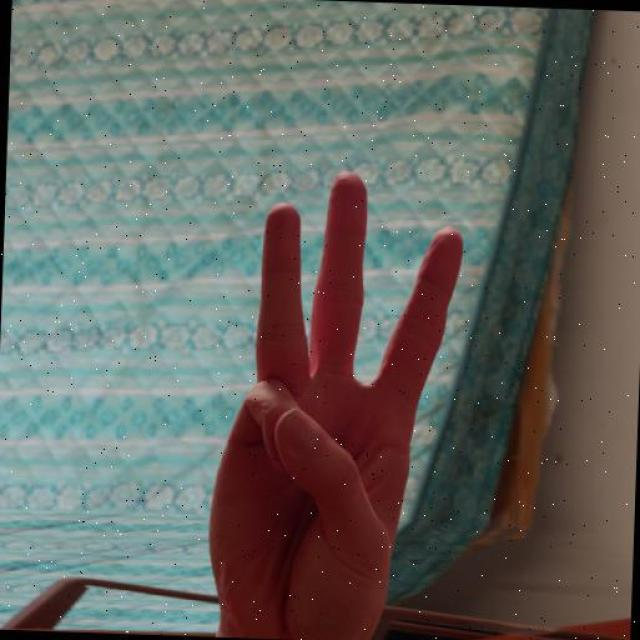W: (197, 156, 469, 640)
